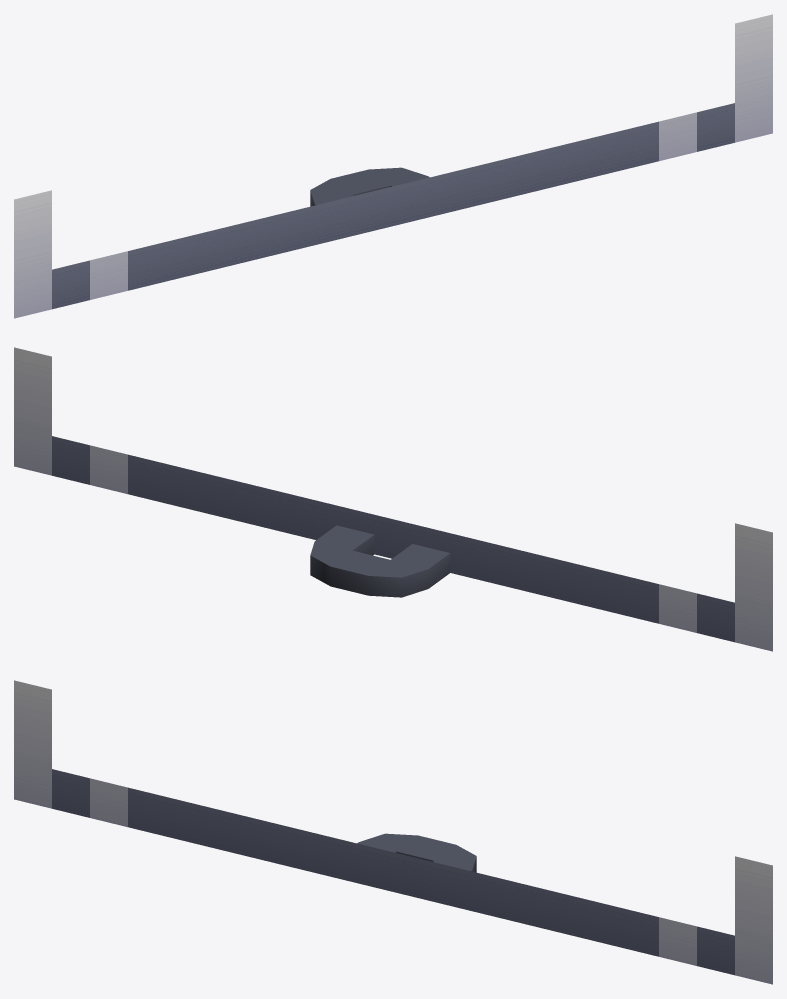
The model's file is track_road_wide_cap_front.glb.
The picture shows the model from 3 angles, top to bottom: view 1: azimuth 30°, elevation 25°; view 2: azimuth 150°, elevation 25°; view 3: azimuth 330°, elevation 25°; orthographic projection.
Parts seen in each view (by area): view 1: track-road-wide-cap-front; view 2: track-road-wide-cap-front; view 3: track-road-wide-cap-front.
Boxes of the visible parts, x1,y1,x2,y2 form: track-road-wide-cap-front: (14, 14, 772, 318); track-road-wide-cap-front: (14, 347, 772, 651); track-road-wide-cap-front: (14, 680, 772, 984).
Size of the model in its own units: 2 by 0.3 by 0.2.
Materials: 1 (1 with a texture image).
